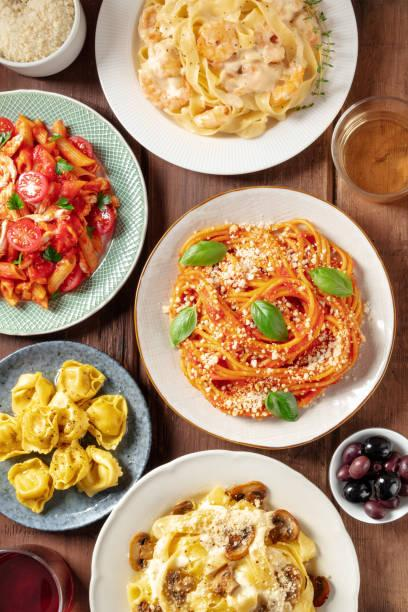Braised Crucian Carp: (133, 186, 396, 446), (95, 1, 360, 176), (81, 453, 371, 612), (0, 86, 150, 336), (1, 340, 151, 531)
